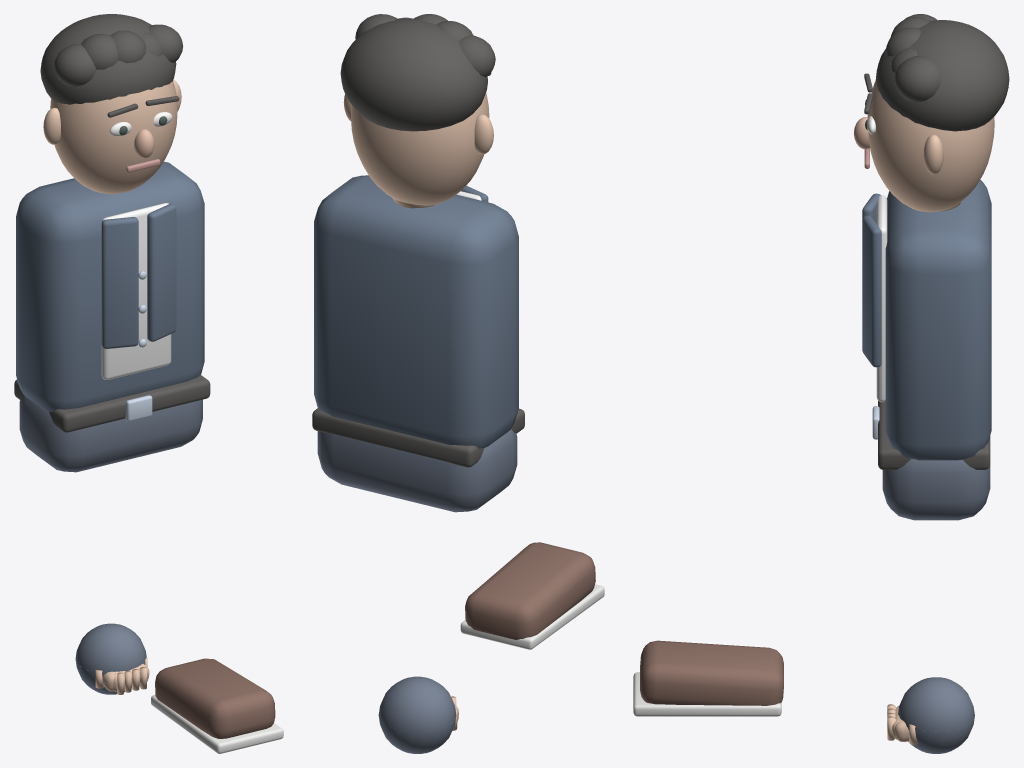
3 views of the same model, side by side, from view 1: azimuth 30°, elevation 25°; view 2: azimuth 150°, elevation 25°; view 3: azimuth 270°, elevation 25° (orthographic). The views are drawn at different scales.
Parts seen in each view (by area): view 1: Torso, HeadMesh, Pelvis, ShoeL, HairCap, LapelL, LapelR, ShirtFront, Belt, ThighL_cap_a, SoleL, HairClump_0 (+6 smaller); view 2: Torso, HairCap, Pelvis, HeadMesh, ShoeL, ThighL_cap_a, Belt, SoleL, ThighL_cap_b, HairClump_0, EarL; view 3: Torso, HairCap, HeadMesh, ShoeL, Pelvis, ThighL_cap_a, LapelR, SoleL, HairClump_4, Belt, ShirtFront, ThighL_cap_b (+2 smaller).
Part boxes in pixels (<box>): Torso: <box>16,161,204,412</box>; HeadMesh: <box>50,81,177,193</box>; Pelvis: <box>19,396,202,472</box>; ShoeL: <box>155,658,275,738</box>; HairCap: <box>40,14,176,104</box>; LapelL: <box>101,217,138,348</box>; LapelR: <box>147,204,176,341</box>; ShirtFront: <box>101,203,171,379</box>; Belt: <box>14,374,210,432</box>; ThighL_cap_a: <box>75,623,146,694</box>; SoleL: <box>151,695,283,753</box>; HairClump_0: <box>54,44,96,86</box>; Torso: <box>314,175,518,448</box>; HairCap: <box>340,19,487,131</box>; Pelvis: <box>317,429,517,512</box>; HeadMesh: <box>351,92,489,205</box>; ShoeL: <box>465,542,595,639</box>; ThighL_cap_a: <box>378,676,456,753</box>; Belt: <box>312,408,524,467</box>; SoleL: <box>460,584,604,649</box>; ThighL_cap_b: <box>379,677,452,753</box>; HairClump_0: <box>458,35,495,77</box>; EarL: <box>474,114,493,154</box>; Torso: <box>885,179,991,460</box>; HairCap: <box>875,20,1009,131</box>; HeadMesh: <box>867,80,994,212</box>; ShoeL: <box>640,640,783,705</box>; Pelvis: <box>882,458,990,520</box>; ThighL_cap_a: <box>898,677,974,753</box>; LapelR: <box>862,215,881,367</box>; SoleL: <box>633,672,781,716</box>; HairClump_4: <box>894,56,940,102</box>; Belt: <box>878,401,990,469</box>; ShirtFront: <box>876,195,887,402</box>; ThighL_cap_b: <box>899,682,974,752</box>.
Size of the model in its own units: 0.4515 by 1.77 by 0.838.
